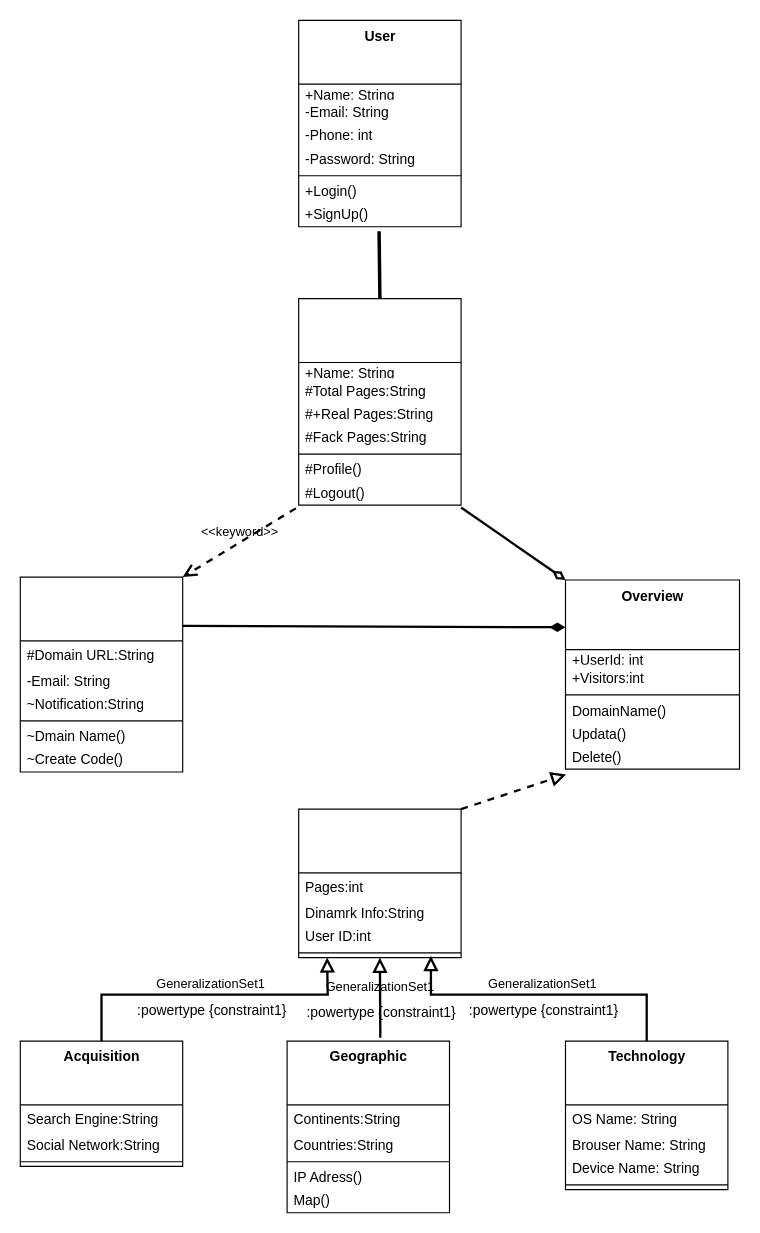
Some shapes in this 760 by 1233 pixel diagram are drawn without their labels. Each missing label, with the box of its shape:
Add New Site: (19, 576, 183, 772)
Dashboard: (298, 298, 461, 505)
Real Time: (298, 808, 461, 958)
